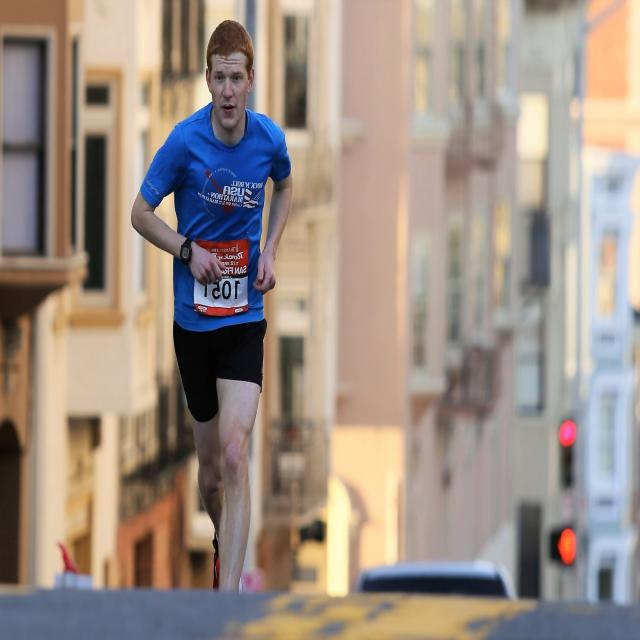adult: (132, 21, 291, 584)
